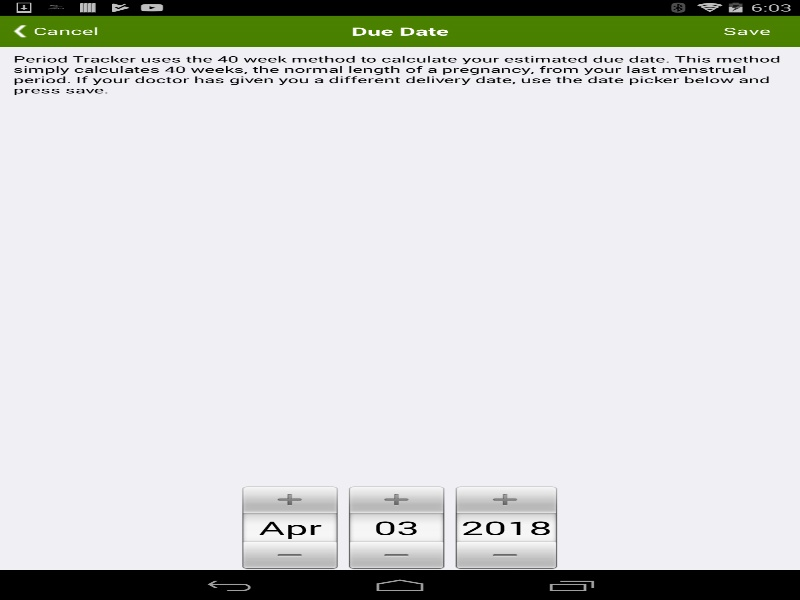Button: (451, 542, 561, 570), (451, 485, 561, 512), (238, 542, 342, 570), (344, 542, 448, 570), (238, 485, 342, 512), (344, 485, 448, 512), (13, 20, 120, 42), (706, 20, 786, 42)
Input: (451, 512, 561, 542), (238, 512, 342, 542), (344, 512, 448, 542)
